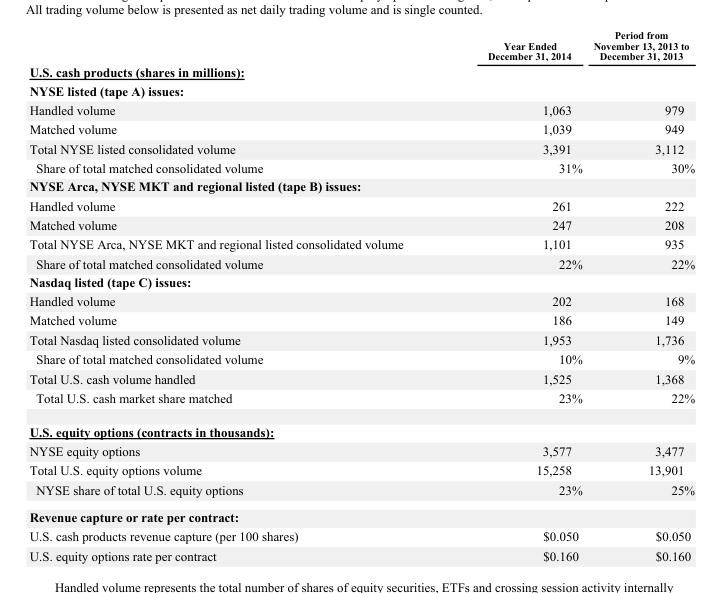table: (28, 29, 694, 562)
table column: (28, 29, 444, 562), (444, 29, 587, 562), (587, 29, 694, 562)
table column header: (28, 29, 694, 63)
table projected row header: (28, 414, 694, 440), (28, 502, 694, 526), (28, 176, 694, 195), (28, 272, 694, 291), (28, 63, 694, 81), (28, 81, 694, 99)
table row: (28, 29, 694, 63), (28, 387, 694, 414), (28, 414, 694, 440), (28, 502, 694, 526), (28, 479, 694, 502), (28, 99, 694, 119), (28, 214, 694, 234), (28, 329, 694, 349), (28, 440, 694, 460), (28, 119, 694, 138), (28, 138, 694, 157), (28, 157, 694, 176), (28, 176, 694, 195), (28, 195, 694, 214), (28, 234, 694, 253), (28, 253, 694, 272), (28, 272, 694, 291), (28, 291, 694, 310), (28, 310, 694, 329), (28, 349, 694, 368), (28, 368, 694, 387), (28, 460, 694, 479), (28, 526, 694, 545), (28, 63, 694, 81), (28, 81, 694, 99), (28, 545, 694, 562)
